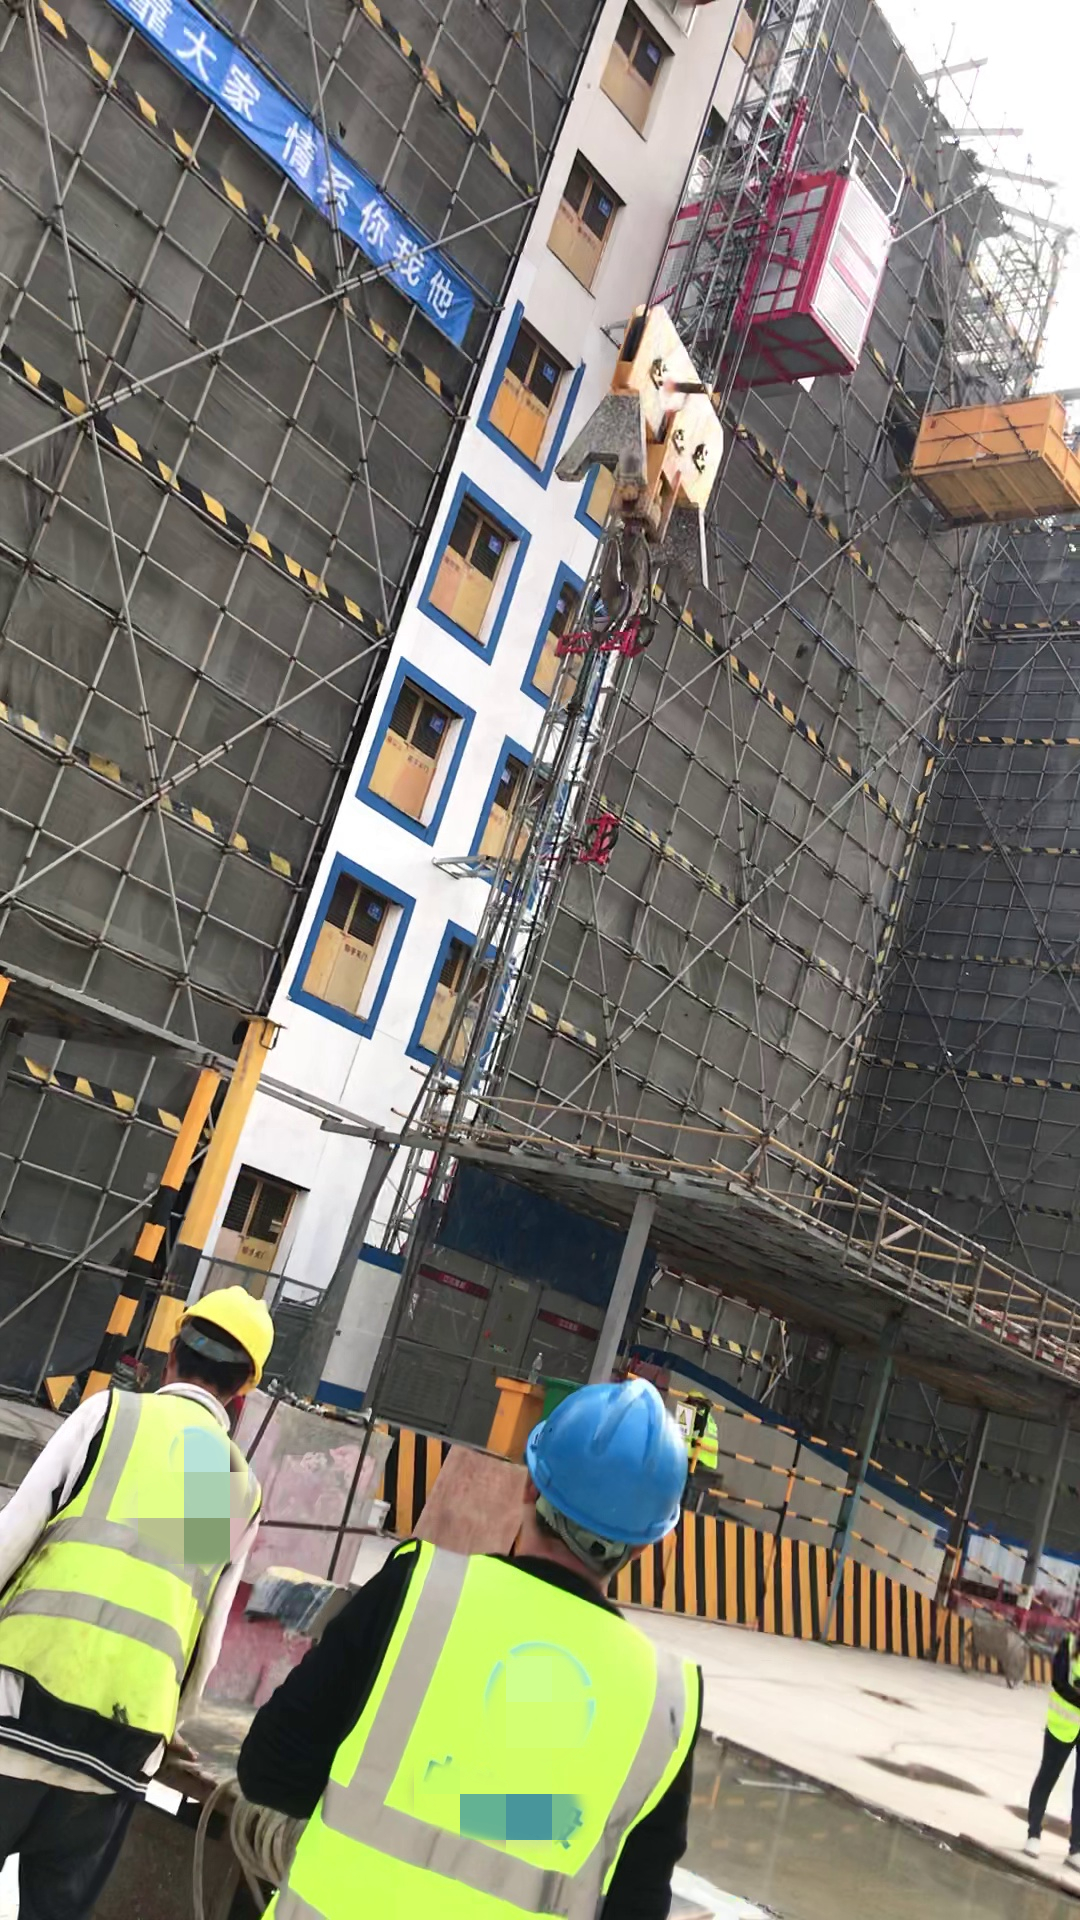ebox: (484, 1374, 547, 1458)
helmet: (518, 1382, 681, 1549), (186, 1261, 277, 1363)
hook: (553, 320, 745, 582)
person: (225, 1386, 759, 1920), (1, 1263, 345, 1920), (1010, 1584, 1080, 1870), (669, 1384, 726, 1510)
slogan: (126, 3, 478, 345)
vest: (263, 1539, 694, 1920), (4, 1382, 233, 1759), (1031, 1635, 1080, 1781)
